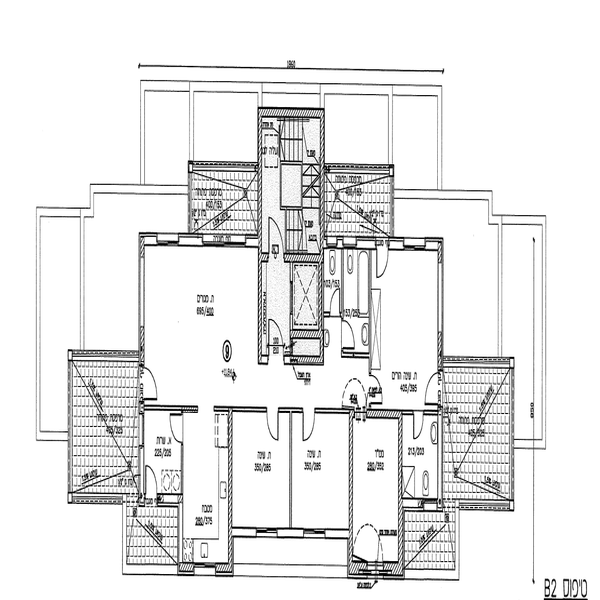door: (135, 354, 163, 408), (295, 408, 328, 450), (131, 466, 163, 506), (261, 212, 286, 262), (327, 315, 361, 351), (421, 367, 449, 407), (371, 247, 397, 284), (408, 407, 436, 439), (259, 403, 278, 446), (267, 317, 288, 353), (167, 411, 187, 447), (326, 282, 342, 319)
room: (127, 221, 267, 412), (256, 244, 374, 416), (364, 239, 460, 412), (218, 396, 301, 542), (347, 404, 409, 585), (289, 414, 353, 539)
wall: (338, 416, 367, 583), (391, 405, 413, 581), (225, 403, 246, 558), (132, 226, 155, 356), (435, 234, 452, 374), (252, 106, 327, 122)
window: (207, 228, 247, 248), (253, 525, 281, 540), (401, 236, 426, 251), (300, 526, 323, 539), (155, 233, 177, 245)
